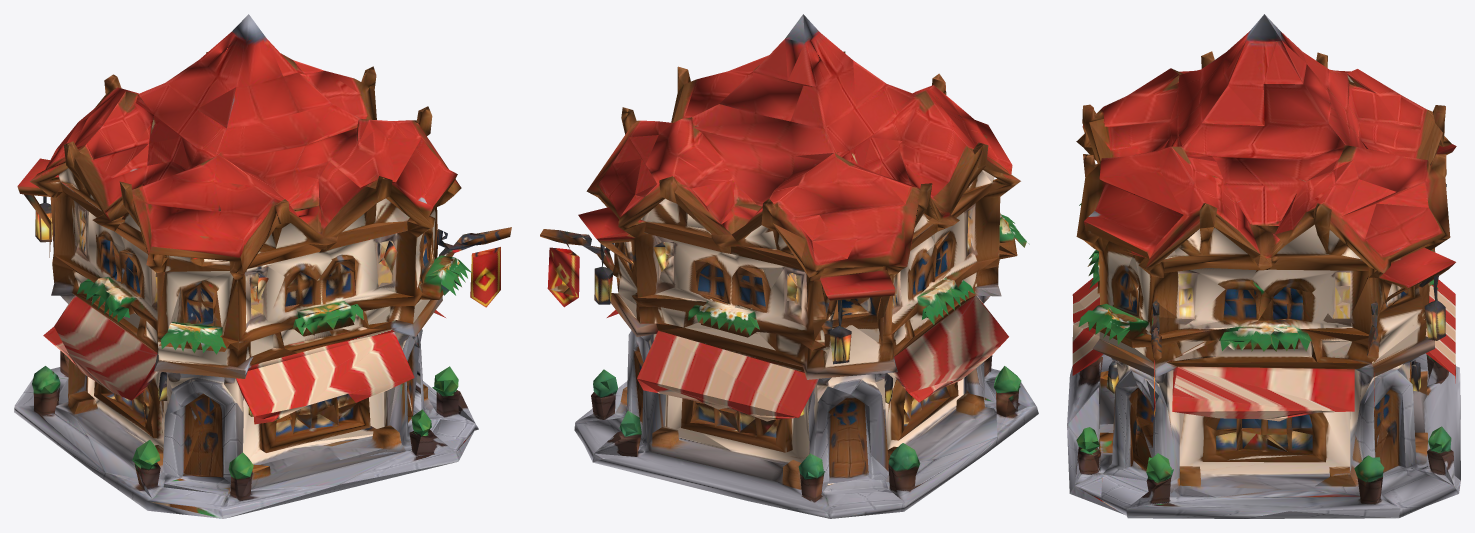
The model's file is corner-building.glb.
3 views of the same model, side by side, from view 1: azimuth 30°, elevation 25°; view 2: azimuth 150°, elevation 25°; view 3: azimuth 270°, elevation 25° (orthographic). The views are drawn at different scales.
Visible parts, largest first — view 1: building_corner; view 2: building_corner; view 3: building_corner.
Part boxes in pixels (box(x1,y1,x2,y2)): building_corner: box(14, 14, 511, 518); building_corner: box(540, 14, 1038, 518); building_corner: box(1067, 14, 1460, 518).
Bounding box in the file's own units: 6 × 6.17 × 5.23.
Materials: 1 (1 with a texture image).
